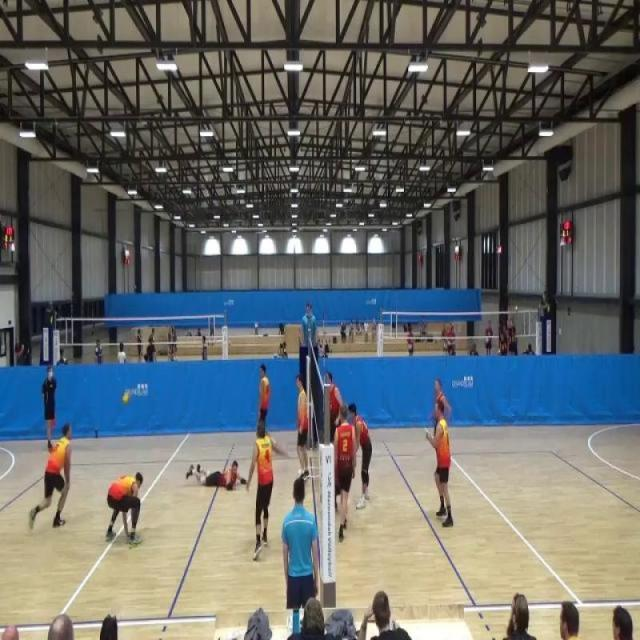volleyball: (121, 390, 130, 408)
